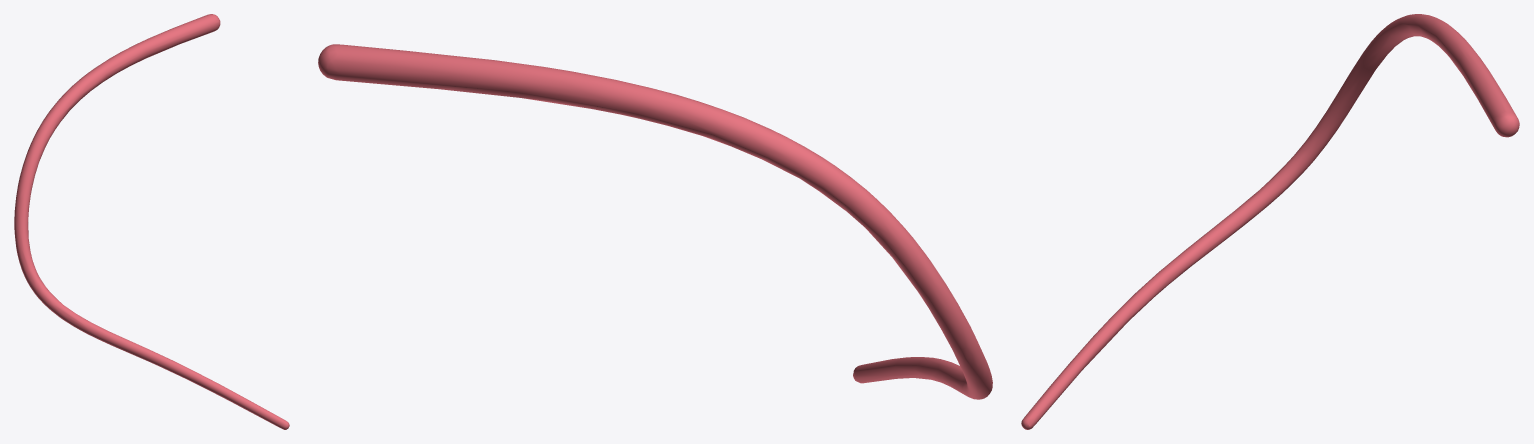
Rendered from fma22587_fj2083.glb.
The picture shows the model from 3 angles, left to right: view 1: azimuth 30°, elevation 25°; view 2: azimuth 150°, elevation 25°; view 3: azimuth 270°, elevation 25°; orthographic projection. The views are drawn at different scales.
Visible parts, largest first — view 1: FMA22587_FJ2083; view 2: FMA22587_FJ2083; view 3: FMA22587_FJ2083.
Part boxes in pixels (bbox=[...]): FMA22587_FJ2083: bbox=[14, 14, 289, 429]; FMA22587_FJ2083: bbox=[318, 44, 992, 399]; FMA22587_FJ2083: bbox=[1021, 14, 1519, 429].
Size of the model in its own units: 0.0415 by 0.0405 by 0.0477.
